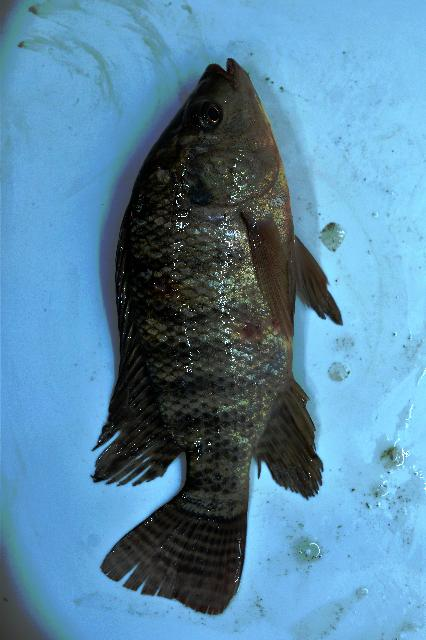Columnaris Disease: (93, 59, 342, 614)
